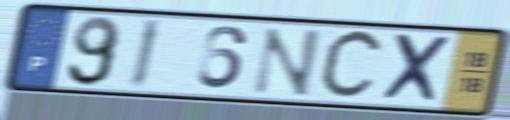6: (196, 24, 250, 93)
9: (64, 13, 124, 90)
C: (315, 26, 388, 105)
I: (126, 16, 165, 91)
N: (248, 25, 325, 99)
X: (377, 31, 455, 107)
